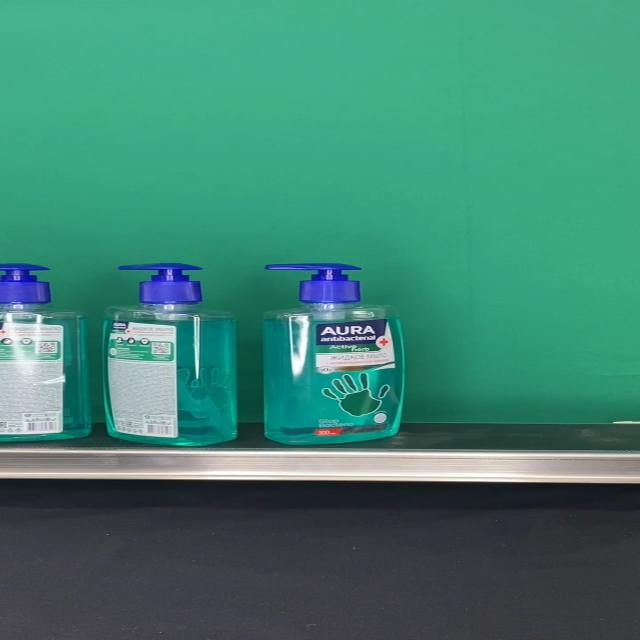Bottle: (264, 262, 404, 445), (101, 263, 237, 447)
Cap: (266, 262, 362, 304), (114, 263, 203, 305)
